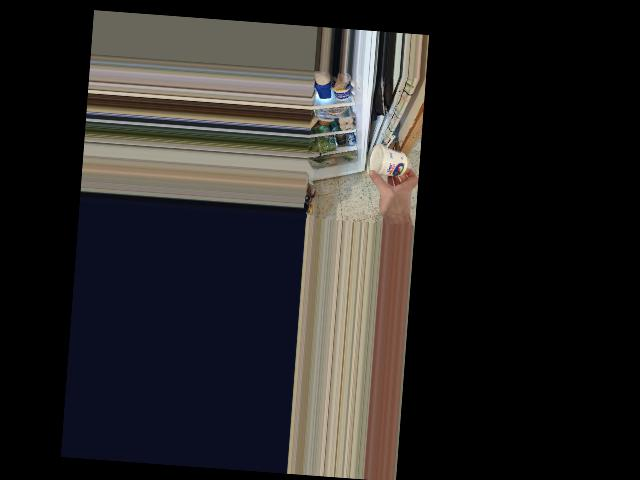cotage: (368, 143, 409, 182)
